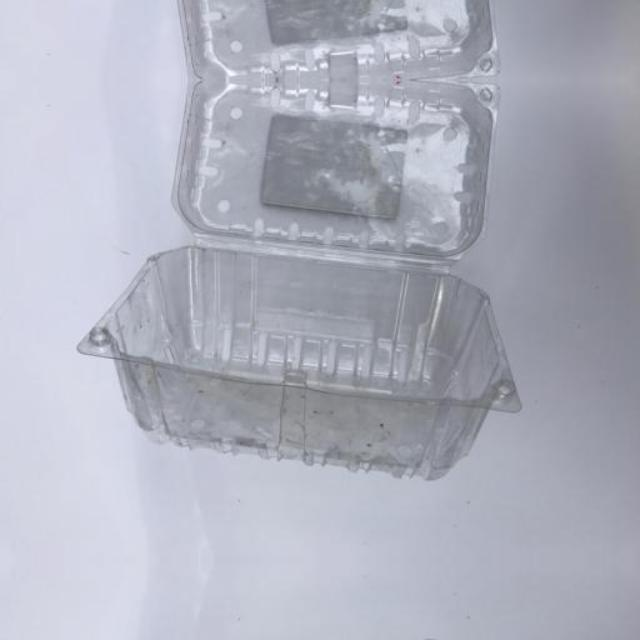Plastic: (74, 80, 536, 508), (73, 0, 536, 80), (73, 611, 536, 640)
